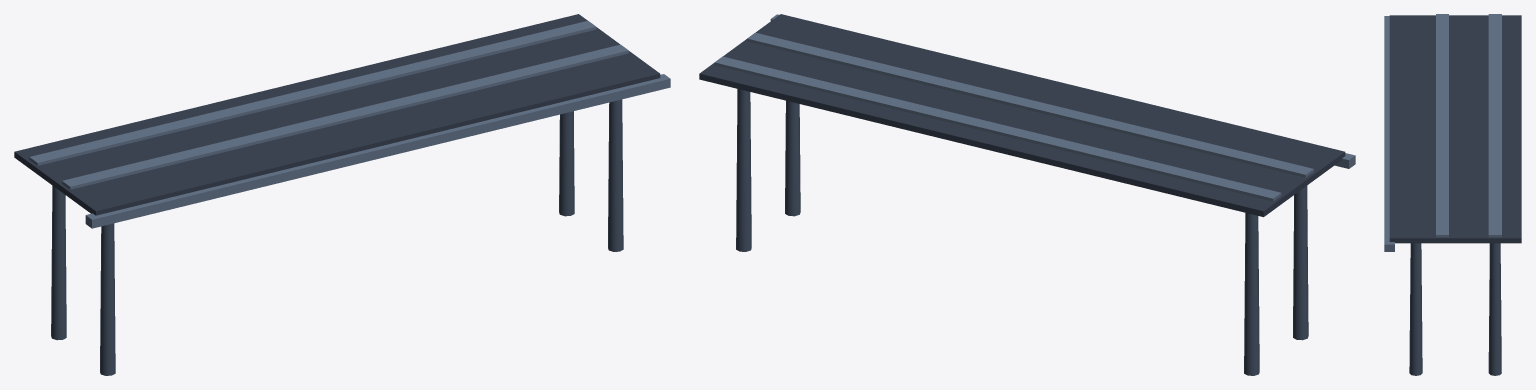
Rendered from dock-canopy-structure-authored-atlas.glb.
The picture shows the model from 3 angles, left to right: view 1: azimuth 30°, elevation 25°; view 2: azimuth 150°, elevation 25°; view 3: azimuth 270°, elevation 25°; orthographic projection. The views are drawn at different scales.
Parts seen in each view (by area): view 1: Authored surface.071; view 2: Authored surface.071; view 3: Authored surface.071.
Boxes of the visible parts, x1,y1,x2,y2 form: Authored surface.071: [14, 14, 670, 375]; Authored surface.071: [699, 14, 1355, 375]; Authored surface.071: [1384, 14, 1521, 375].
Bounding box in the file's own units: 20.5 × 6.2 × 5.2.
1 material, 1 textured.
